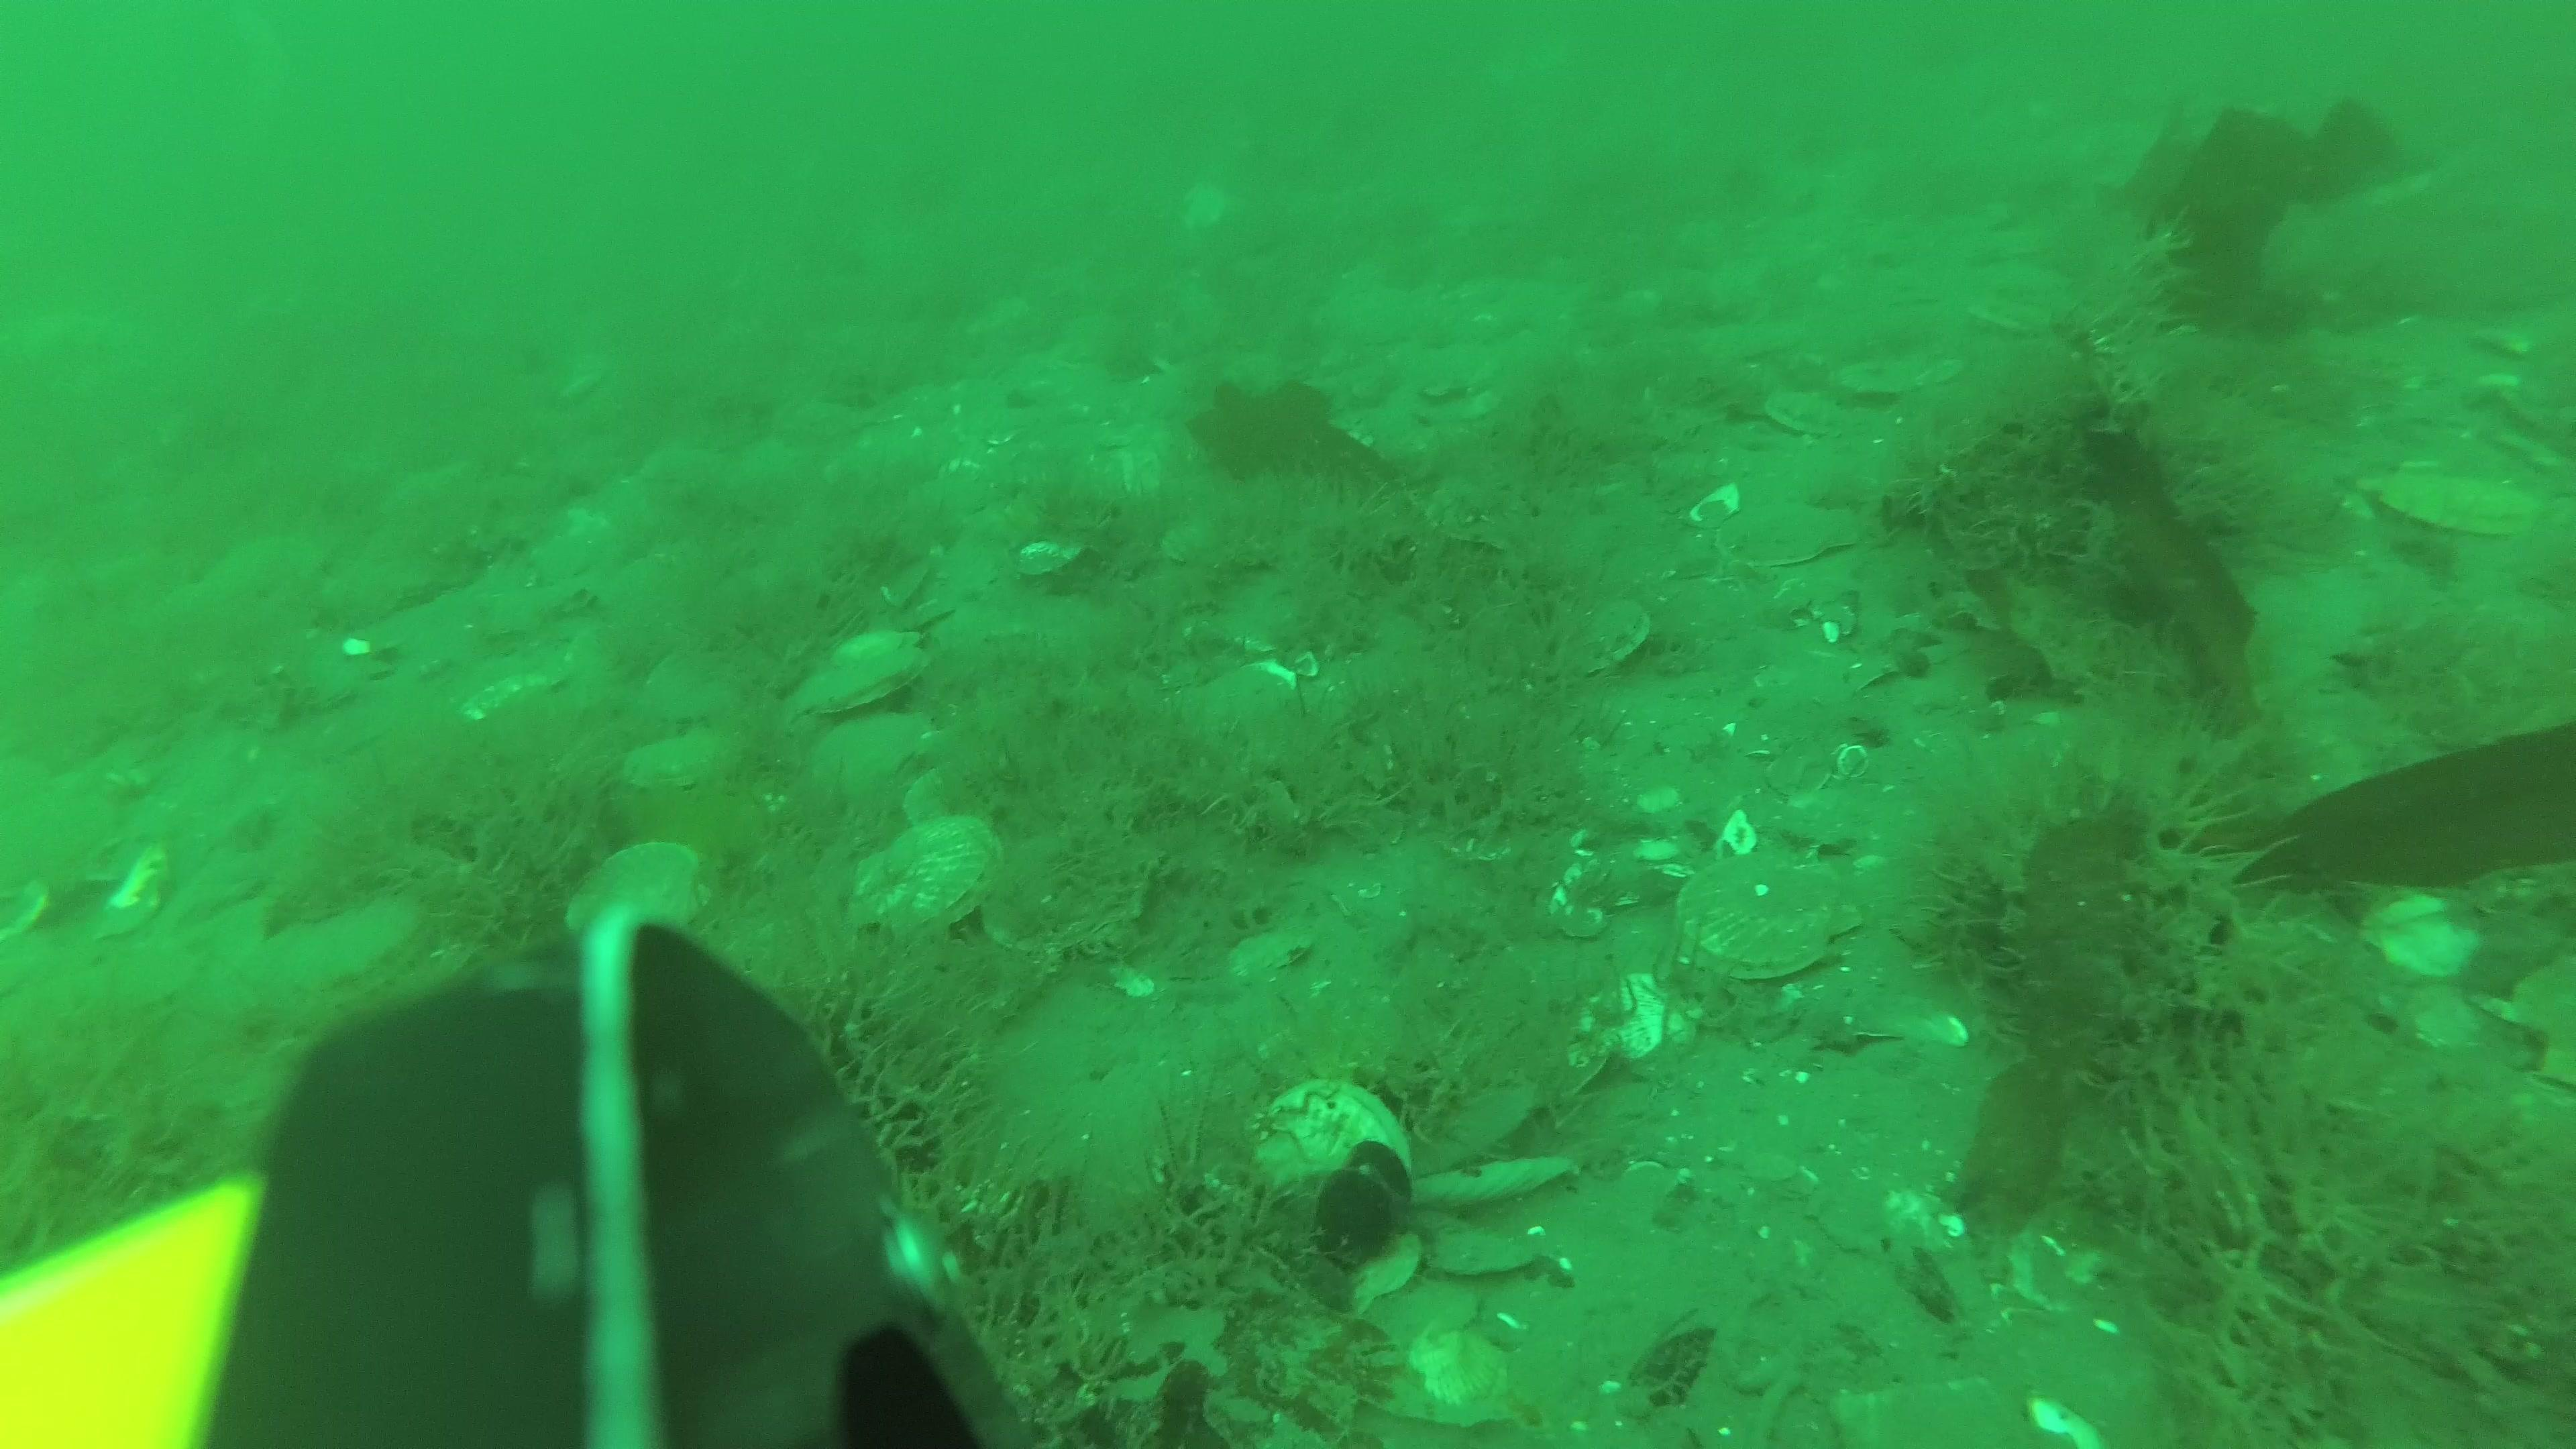scallop: (1675, 840, 1865, 982), (1258, 1076, 1421, 1230), (851, 821, 1008, 945), (817, 713, 954, 819), (2380, 458, 2525, 550), (582, 840, 711, 941), (787, 640, 929, 732), (1718, 495, 1868, 579), (1550, 587, 1658, 679), (625, 731, 748, 800), (1838, 345, 1966, 409), (1762, 380, 1845, 441)
